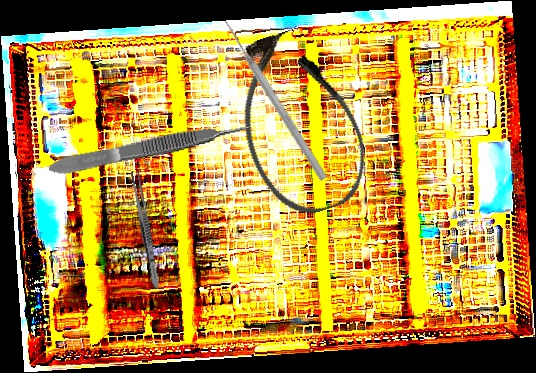Cannula: (217, 18, 381, 227)
Dressing Forceps: (128, 170, 163, 289)
Pusher: (220, 17, 330, 183)
Tissue Forceps: (46, 118, 254, 179)
